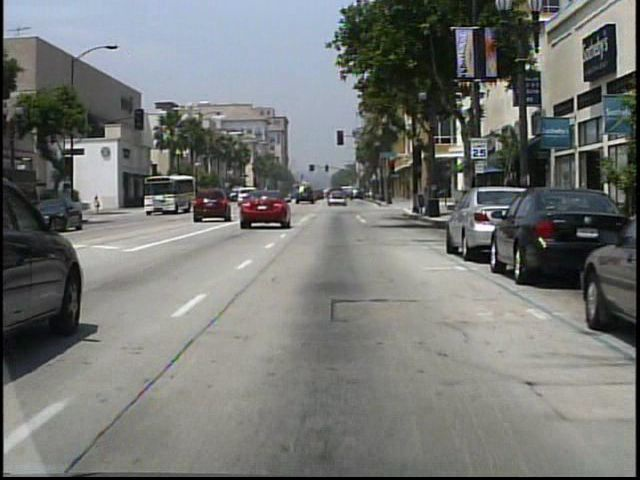person: (93, 194, 102, 213)
